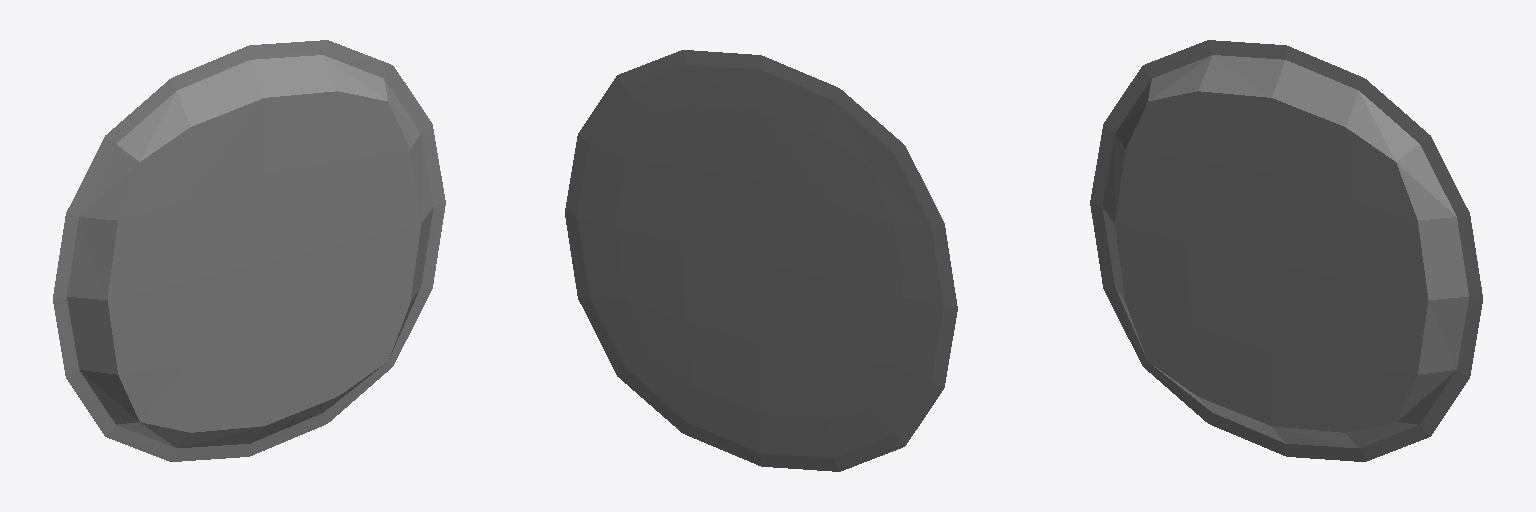
Rendered from uiOBJ.obj.
The picture shows the model from 3 angles: view 1: azimuth 30°, elevation 25°; view 2: azimuth 150°, elevation 25°; view 3: azimuth 330°, elevation 25°; orthographic projection.
Parts seen in each view (by area): view 1: Box001; view 2: Box001; view 3: Box001.
Boxes of the visible parts, x1,y1,x2,y2 form: Box001: [53, 40, 445, 461]; Box001: [565, 50, 957, 471]; Box001: [1090, 40, 1482, 461].
Bounding box in the file's own units: 87.85 × 87.85 × 6.94.